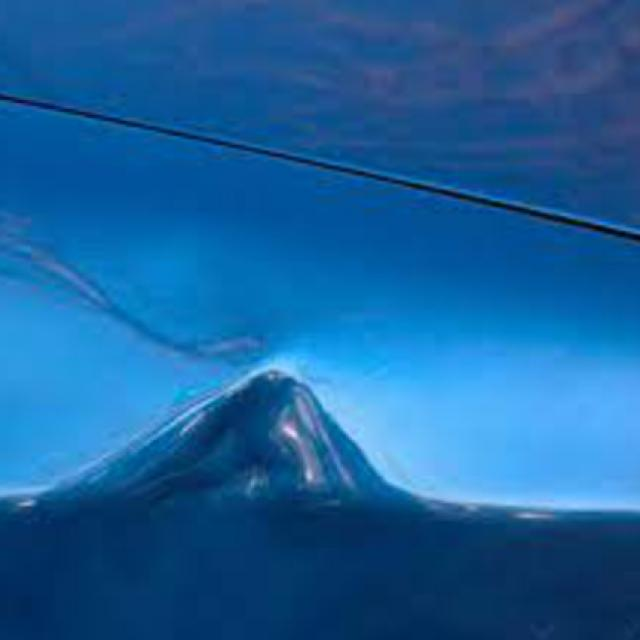dents: (113, 369, 385, 543)
